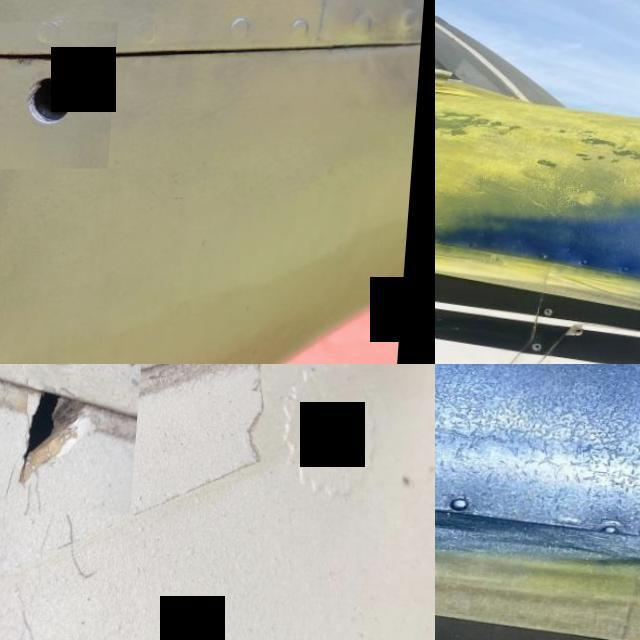Crack: (0, 364, 146, 516)
Missing_Fastener: (0, 22, 122, 169), (578, 328, 590, 337), (538, 342, 548, 352), (550, 308, 559, 316), (472, 244, 480, 249)
